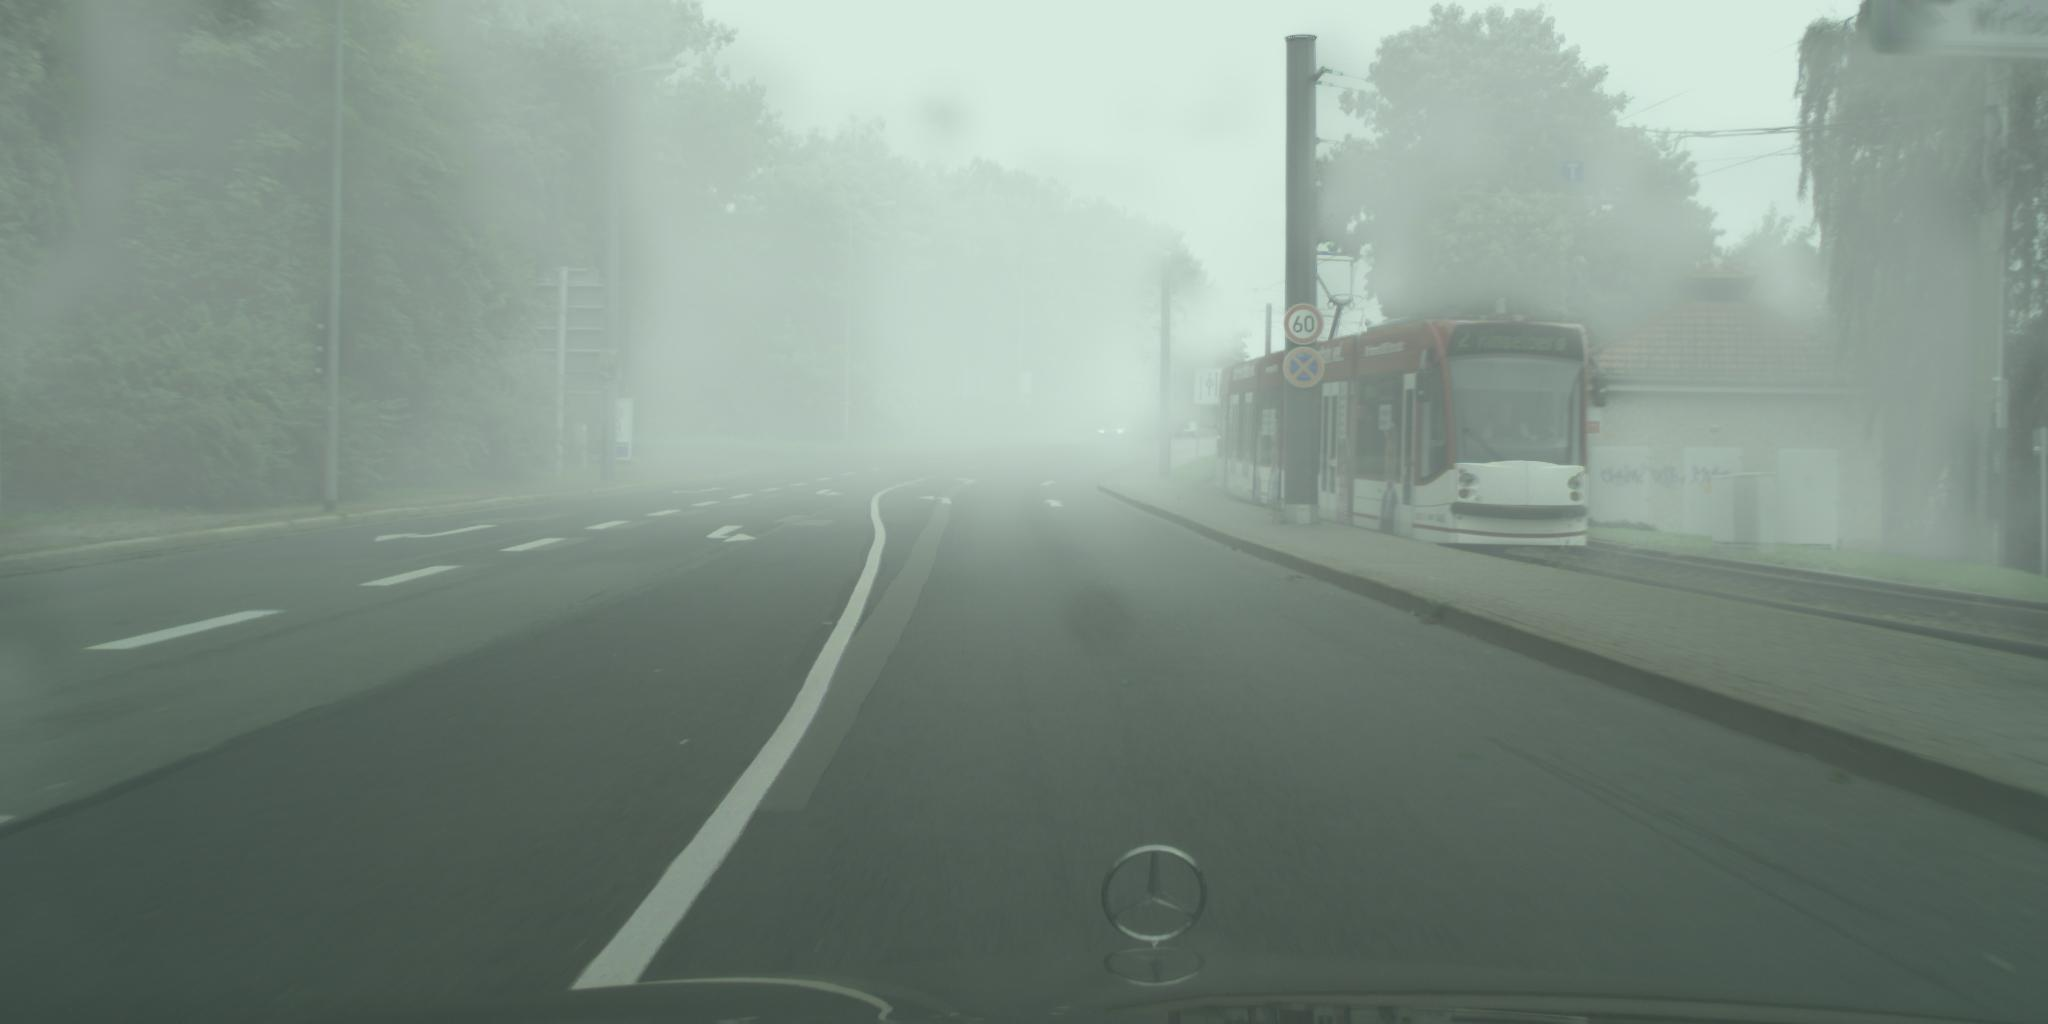car: (1098, 421, 1136, 444), (1176, 422, 1198, 441)
train: (1217, 252, 1609, 556)
